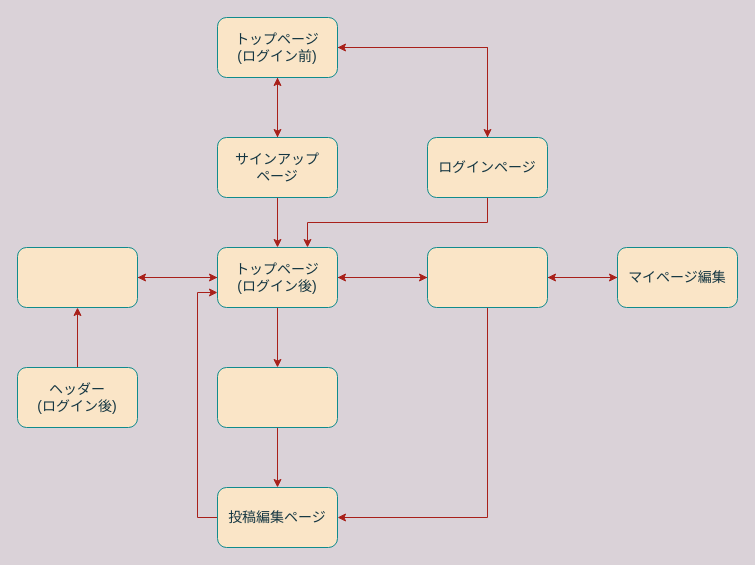
Image size: 755x565. Some labels were removed from this diagram. Each missing label, with the box of its shape:
マイページ: (426, 246, 548, 308)
投稿詳細ページ: (216, 366, 338, 428)
新規投稿ページ: (16, 246, 138, 308)
